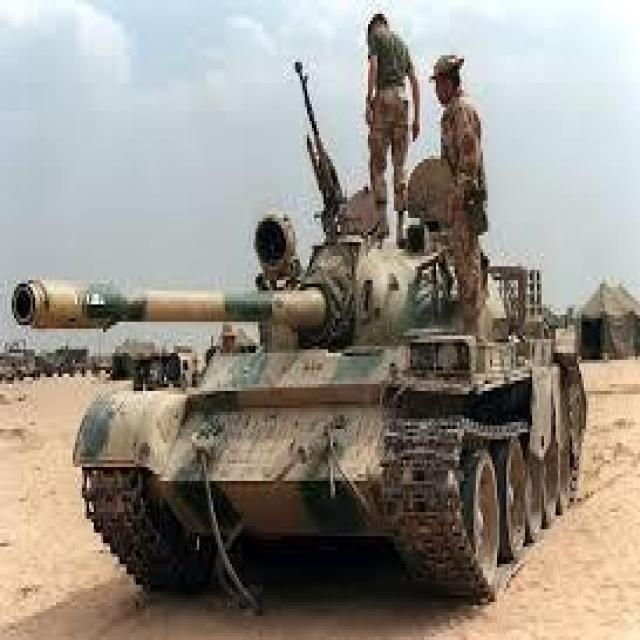Tanks: (8, 192, 618, 618)
